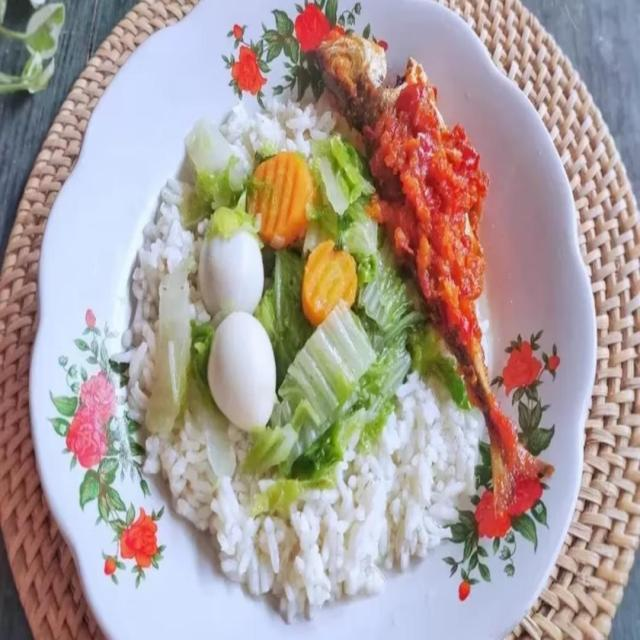Egg: (192, 200, 280, 441)
Fish: (306, 34, 563, 524)
Plate: (32, 0, 595, 639)
Rice: (119, 91, 483, 627)
Vegetables: (136, 139, 475, 511)
